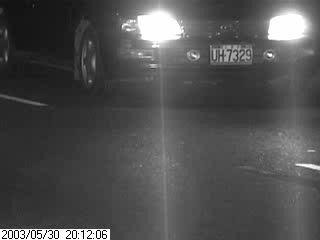plate: (207, 41, 253, 67)
